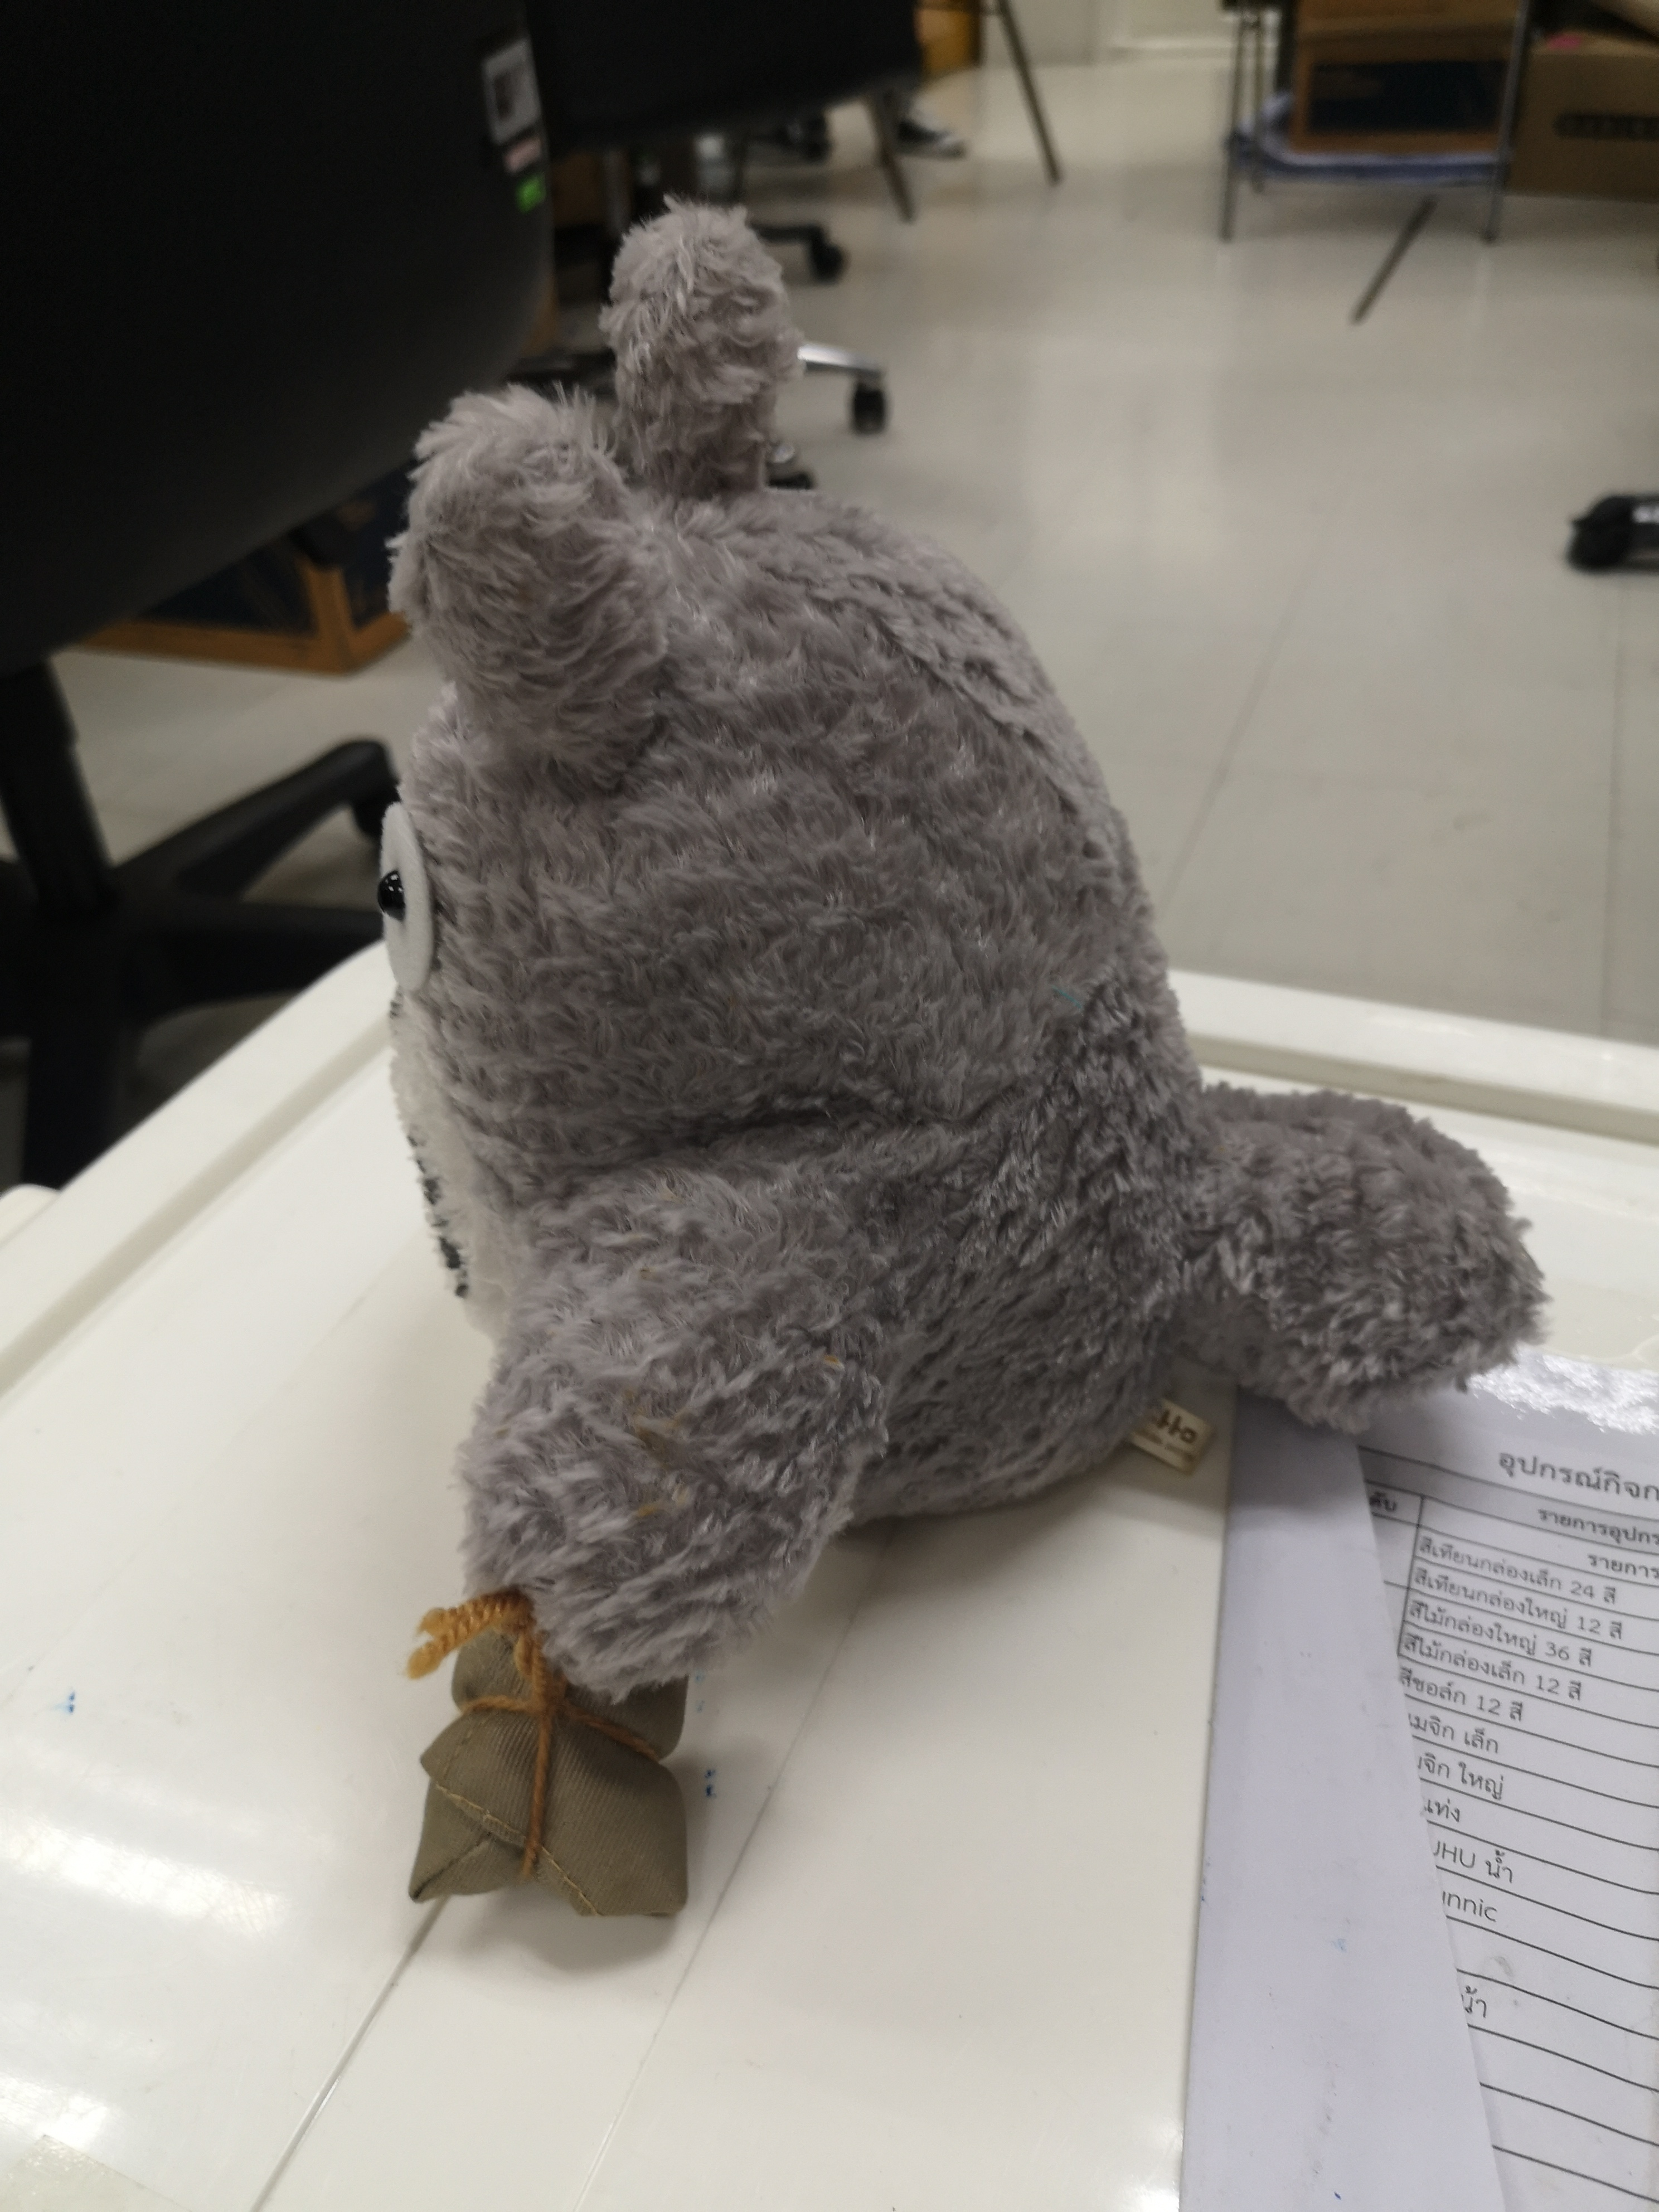totoro: (369, 186, 1565, 1939)
